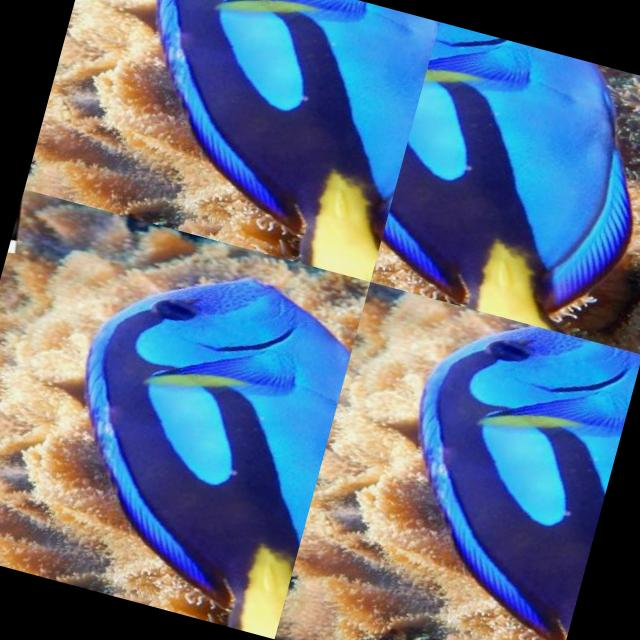BlueTang: (26, 242, 356, 638), (100, 0, 438, 275), (367, 301, 640, 640), (370, 24, 640, 343)
